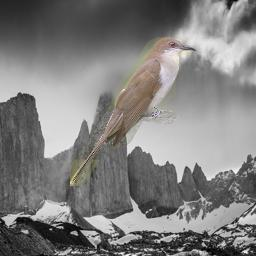Cuckoo: (70, 37, 198, 186)
